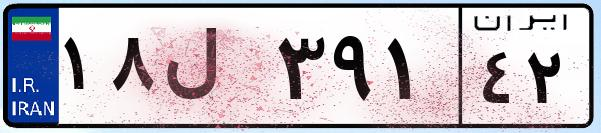1: (385, 28, 445, 110), (57, 26, 110, 100)
2: (525, 38, 570, 115)
3: (270, 28, 330, 110)
4: (475, 38, 525, 113)
8: (110, 28, 158, 98)
9: (330, 28, 385, 110)
ل: (158, 20, 270, 120)
